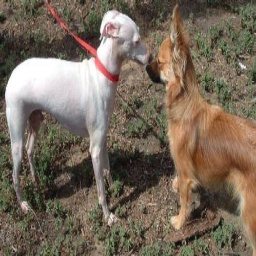dog: (2, 10, 256, 256)
